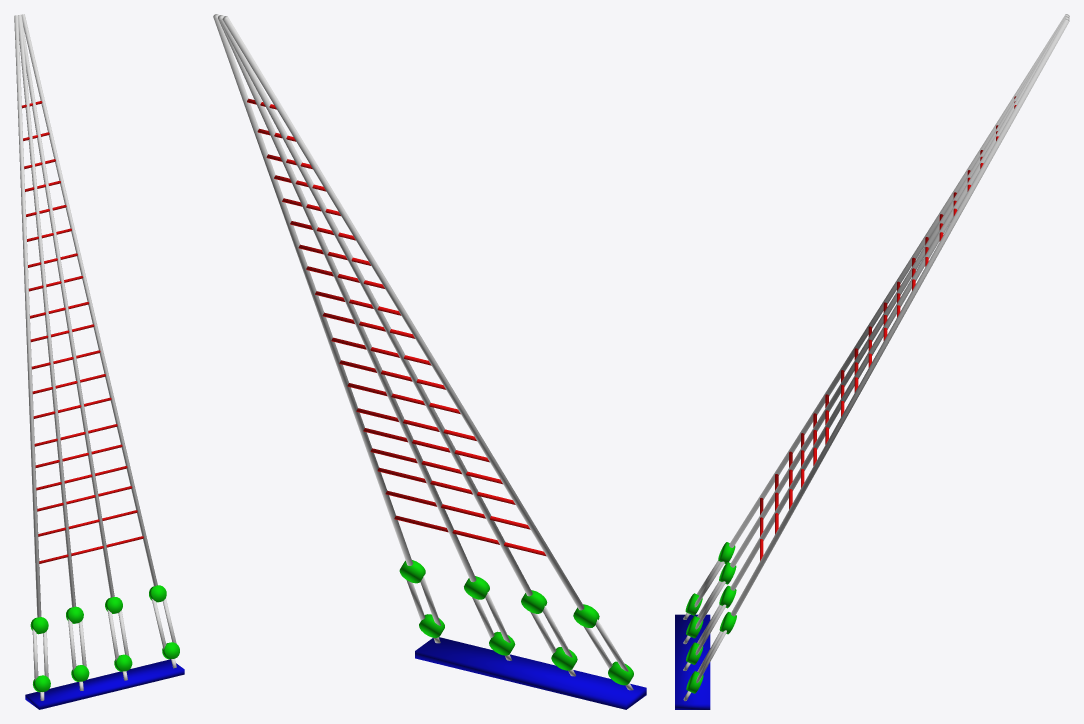
File: 8rope1r.fbx
The picture shows the model from 3 angles, left to right: view 1: azimuth 30°, elevation 25°; view 2: azimuth 150°, elevation 25°; view 3: azimuth 270°, elevation 25°; orthographic projection. The views are drawn at different scales.
Parts seen in each view (by area): view 1: 1r; view 2: 1r; view 3: 1r.
Boxes of the visible parts, bbox=[...] form: 1r: bbox=[14, 14, 184, 709]; 1r: bbox=[213, 14, 646, 709]; 1r: bbox=[675, 14, 1069, 709].
Size of the model in its own units: 303 by 1082 by 563.
